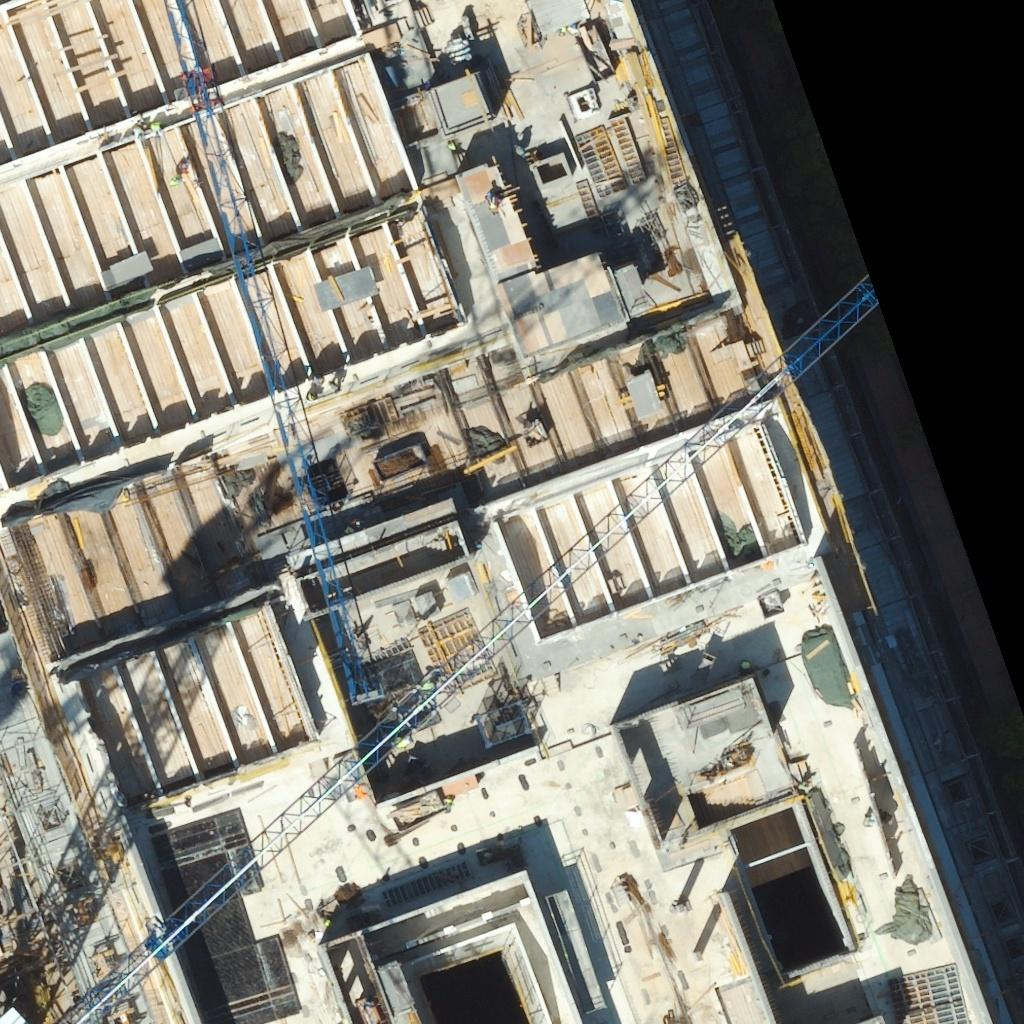samochod_osobowy: (168, 0, 204, 73)
zuraw_wiezowy: (71, 280, 879, 1023), (159, 0, 373, 712)
